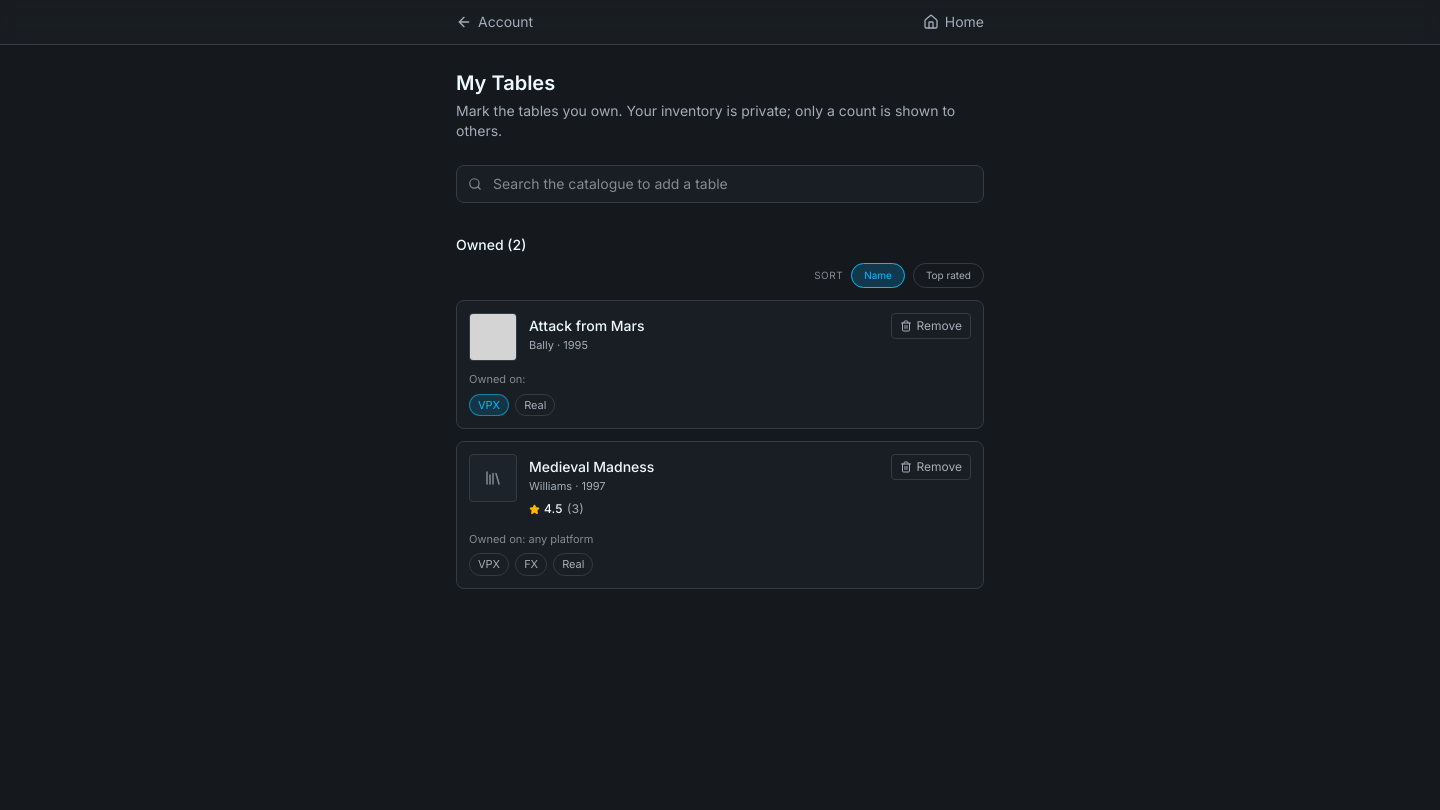
it: My Tables page (C2) › Remove DELETEs the table and drops it from the list
Expected: the list item with test id "owned-gg-mm" is shown, [456,441,984,588]
What coordinates should you click on to do the following:
click the button with aria-label "Remove Medieval Madness"
I would click on:
 (931, 467)
Its box is [892,454,971,480].
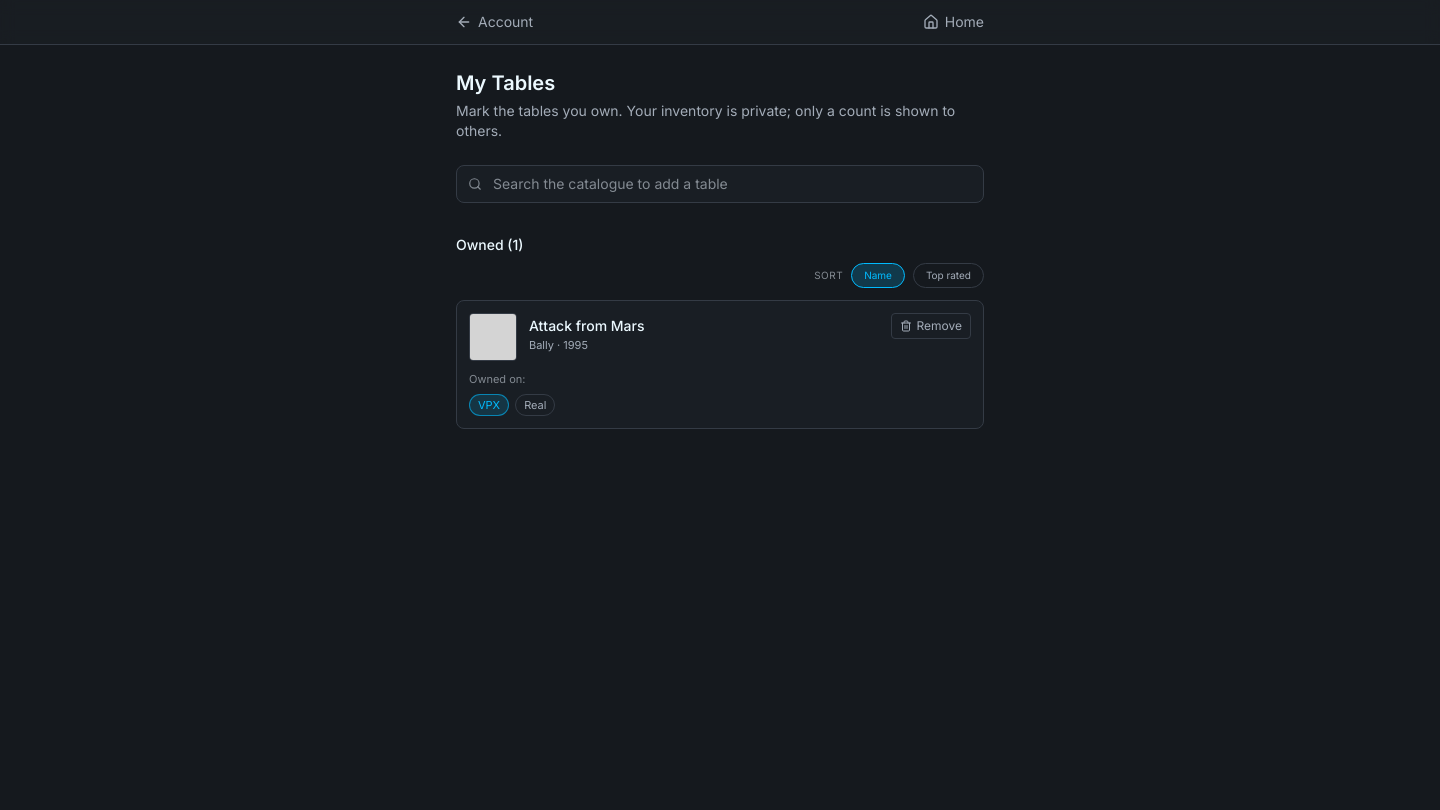
Expected: the list item with test id "owned-gg-afm" is shown, [456,300,984,429]
Expected: the list item with test id "owned-gg-mm" is gone
